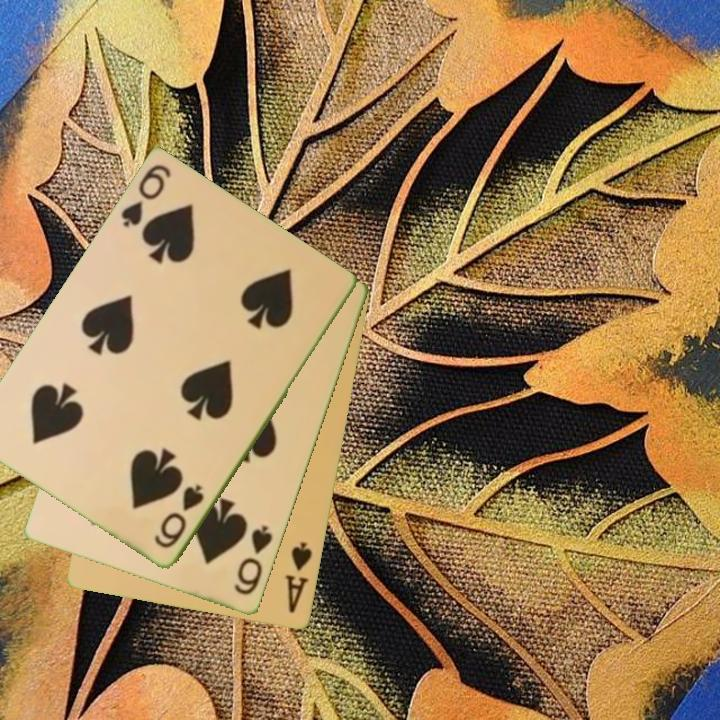6s: (150, 481, 208, 552), (117, 161, 174, 231), (230, 522, 276, 599)
As: (281, 539, 316, 617)
